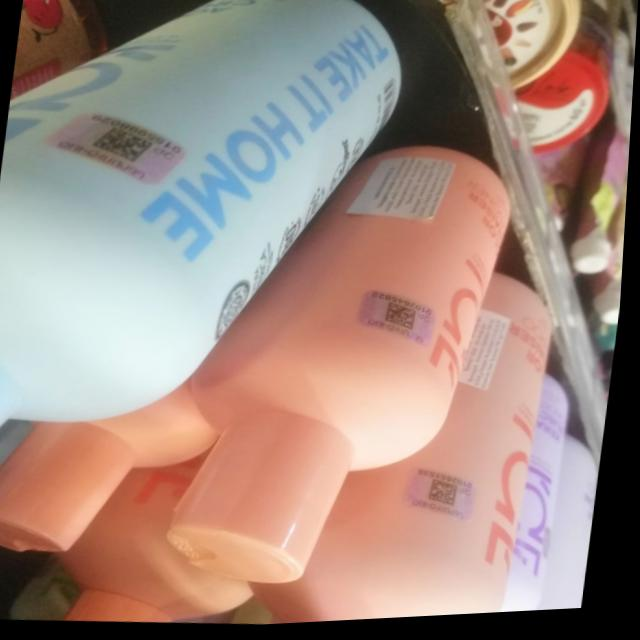datamatrix: (92, 123, 158, 168), (386, 304, 423, 337), (432, 483, 466, 513)
